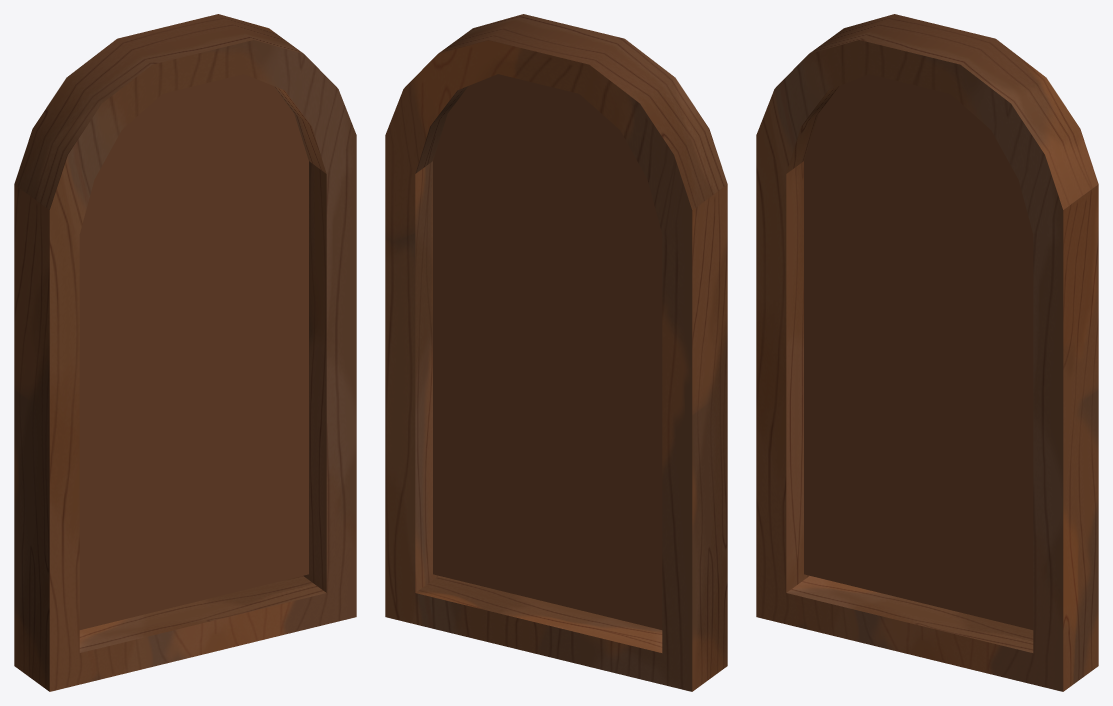
File: Window Frame 5.fbx
3 renders of one model, left to right at view 1: azimuth 30°, elevation 25°; view 2: azimuth 150°, elevation 25°; view 3: azimuth 330°, elevation 25°, orthographic.
Visible parts, largest first — view 1: Window Glass 2, Window Frame; view 2: Window Glass 2, Window Frame; view 3: Window Glass 2, Window Frame.
Part boxes in pixels (<box>): Window Glass 2: <box>79,74,308,629</box>; Window Frame: <box>14,14,356,691</box>; Window Glass 2: <box>433,74,662,629</box>; Window Frame: <box>385,14,727,691</box>; Window Glass 2: <box>804,74,1033,629</box>; Window Frame: <box>756,14,1098,691</box>.
Bounding box in the file's own units: 40 × 75 × 8.
